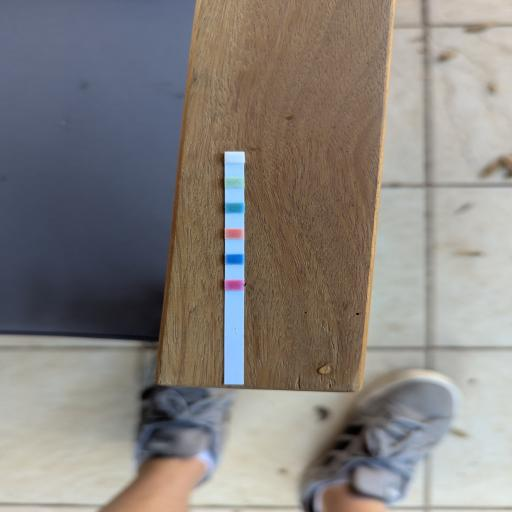strip: (225, 152, 246, 385)
